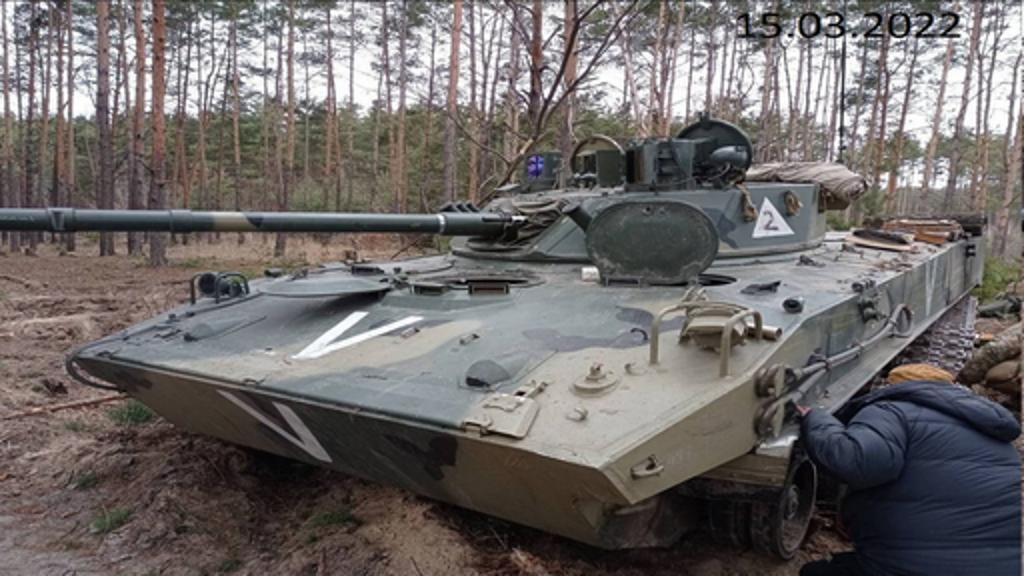APC-IFV: (54, 110, 984, 550)
